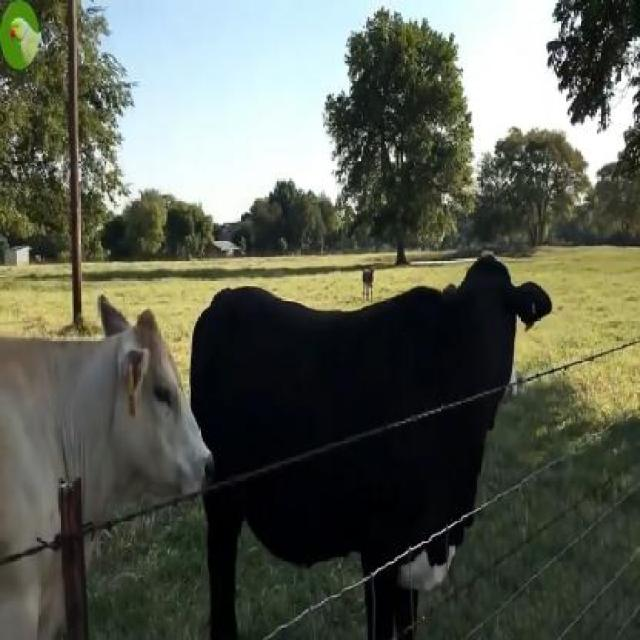Cow: (191, 254, 552, 638)
